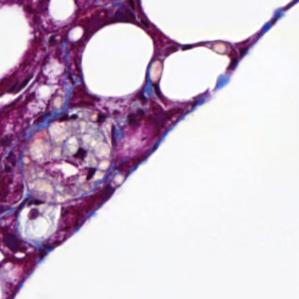inflammation: (22, 100, 84, 128)
